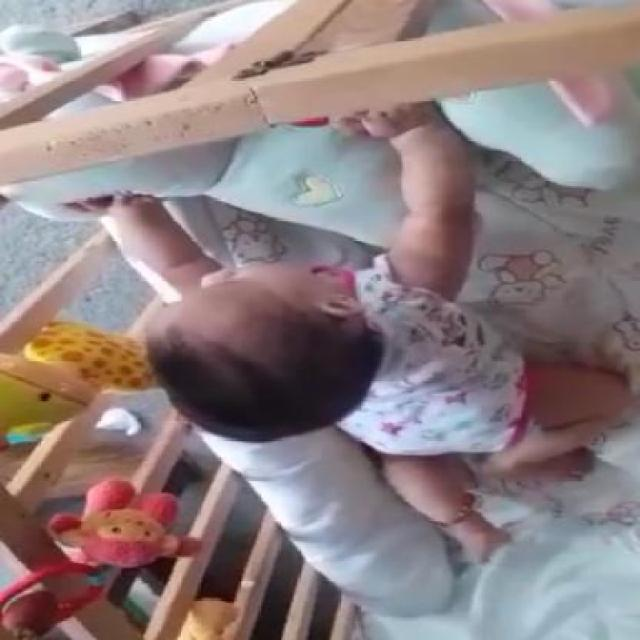baby: (72, 100, 626, 566)
